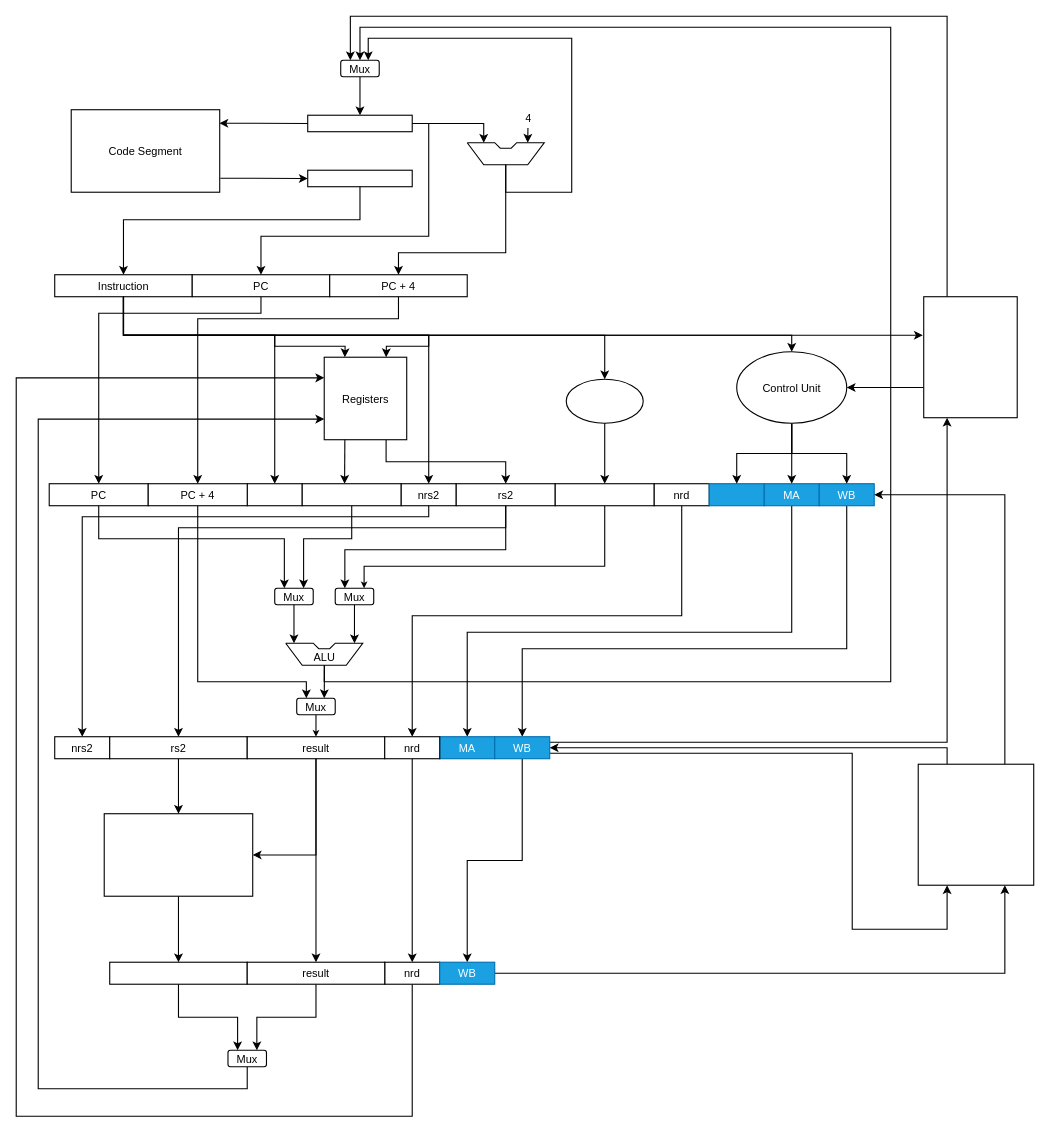
Some shapes in this 1043 by 1132 pixel diagram are drawn without their labels. Here are the shapes that lost their labels. From the top down, the centre of each, then its label:
At (x=360, y=123): "Program Counter".
At (x=360, y=178): "Instruction Register".
At (x=970, y=357): "Branch Predictor".
At (x=604, y=401): "Immediate generation".
At (x=274, y=494): "nrs1".
At (x=351, y=494): "rs1".
At (x=604, y=494): "immediate".
At (x=736, y=494): "EX".
At (x=975, y=824): "Forwarding Unit".
At (x=178, y=855): "Data Segment".
At (x=178, y=973): "Data".
